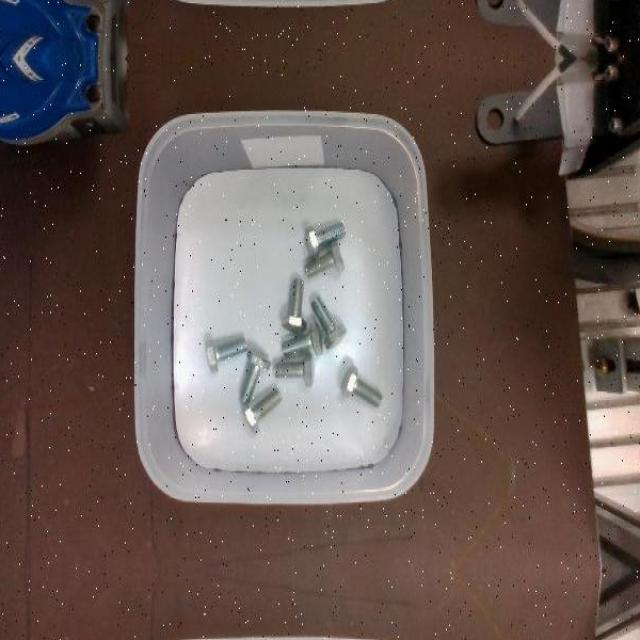screw: (242, 388, 283, 435), (312, 296, 346, 349), (240, 348, 271, 406), (341, 365, 383, 407), (306, 220, 347, 258), (206, 336, 248, 373), (305, 240, 345, 278), (283, 320, 323, 356), (274, 352, 314, 386), (283, 277, 307, 333)
